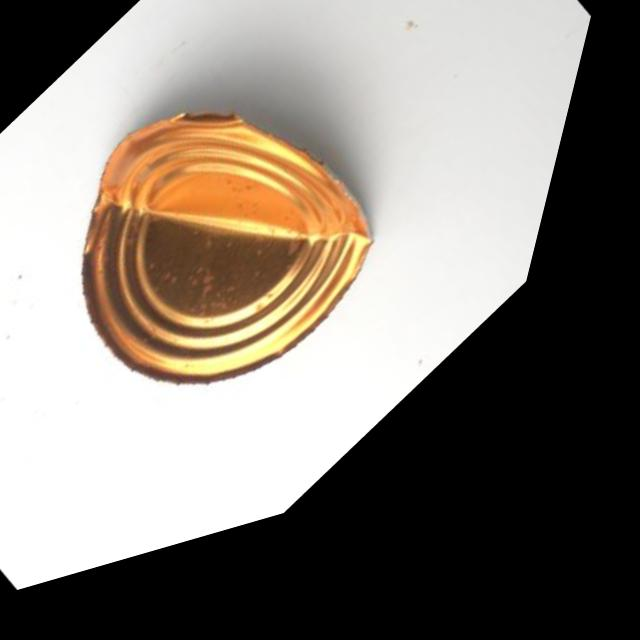metal: (0, 0, 545, 579)
